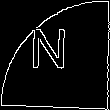N_S: (34, 29, 76, 81)
